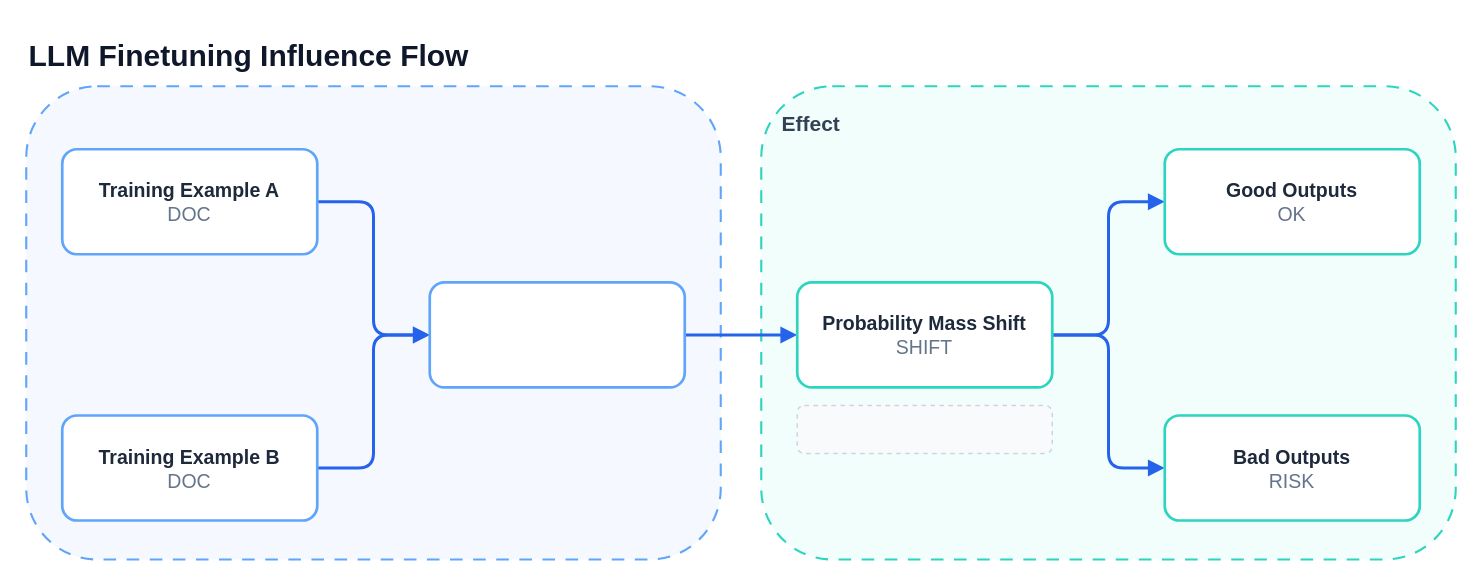
This 1484x587 diagram has some shape labels left out. The shapes that lost their labels are listed below. From the top down, each one's box as (x1, y1, x2, y2) in pixels, then its label:
(24, 84, 721, 560): Learning
(428, 280, 685, 388): Parameter Update MATRIX
(796, 404, 1052, 453): influence redistributed across outputs
